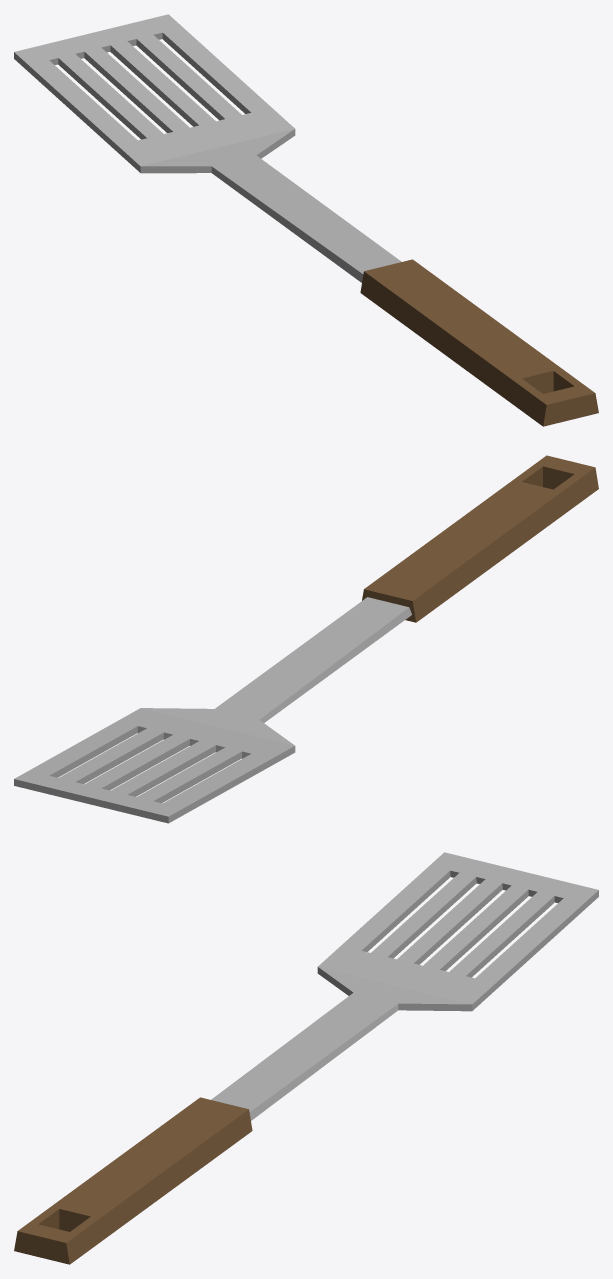
File: Spoon_07.fbx
3 renders of one model, top to bottom at view 1: azimuth 30°, elevation 25°; view 2: azimuth 150°, elevation 25°; view 3: azimuth 330°, elevation 25°, orthographic.
Parts seen in each view (by area): view 1: Spoon_07; view 2: Spoon_07; view 3: Spoon_07.
Boxes of the visible parts, x1=… form: Spoon_07: x1=14, y1=14, x2=598, y2=426; Spoon_07: x1=14, y1=455, x2=598, y2=823; Spoon_07: x1=14, y1=852, x2=598, y2=1264.
Bounding box in the file's own units: 7.6 × 1.67 × 40.87.
